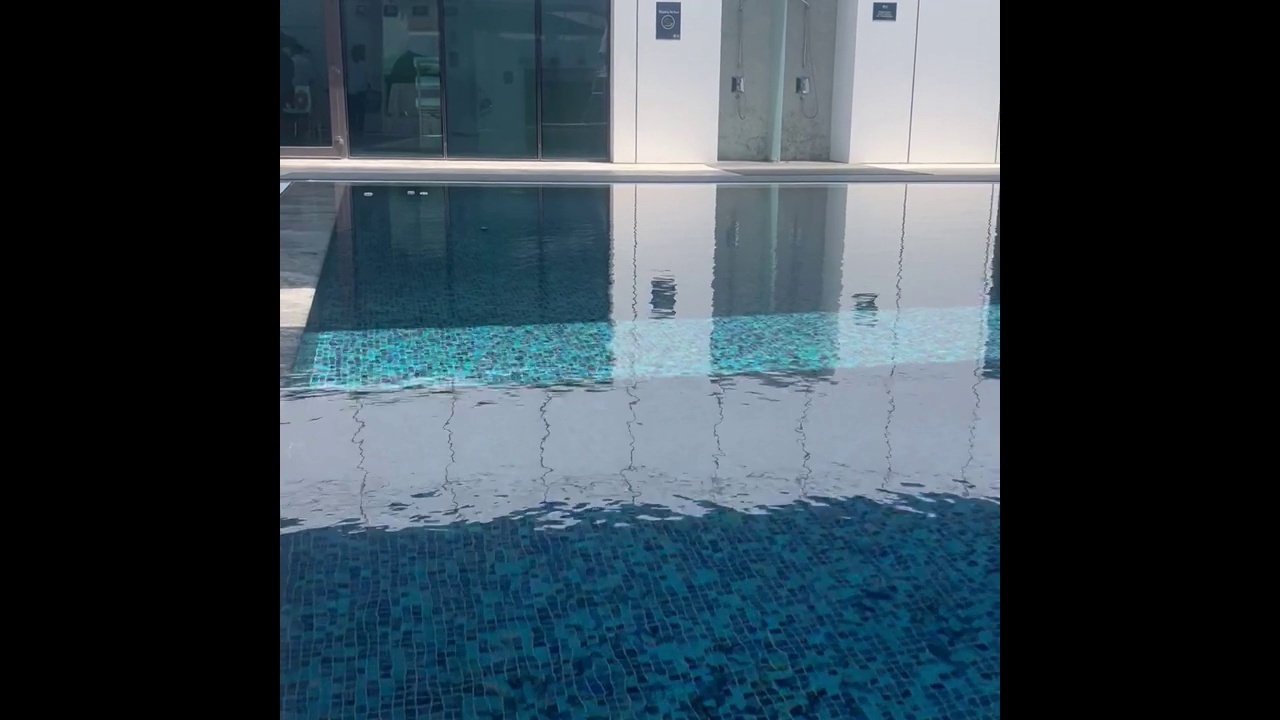debris: (357, 185, 376, 201), (475, 223, 490, 235), (415, 187, 429, 199), (402, 186, 418, 195)
